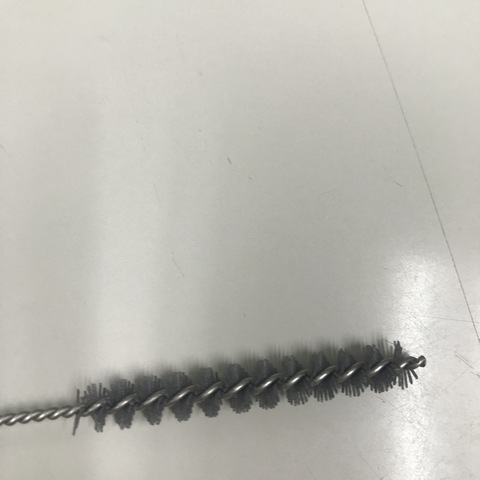Twist Brush-A: (1, 332, 433, 440)
